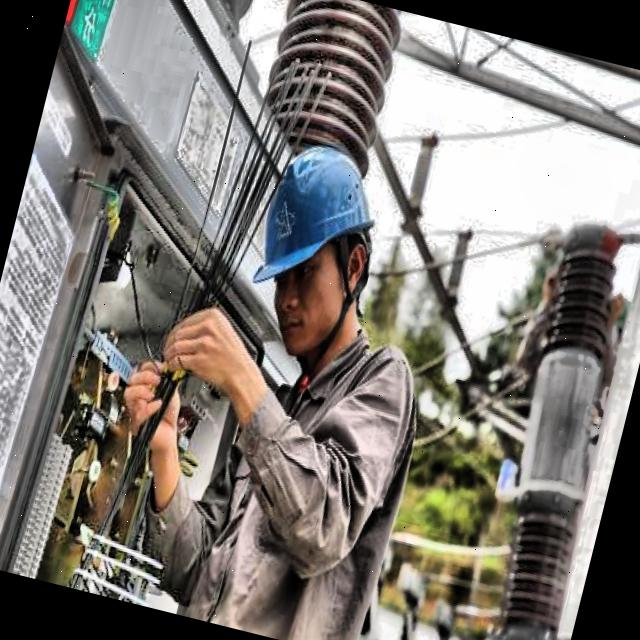helmet: (217, 102, 411, 380)
